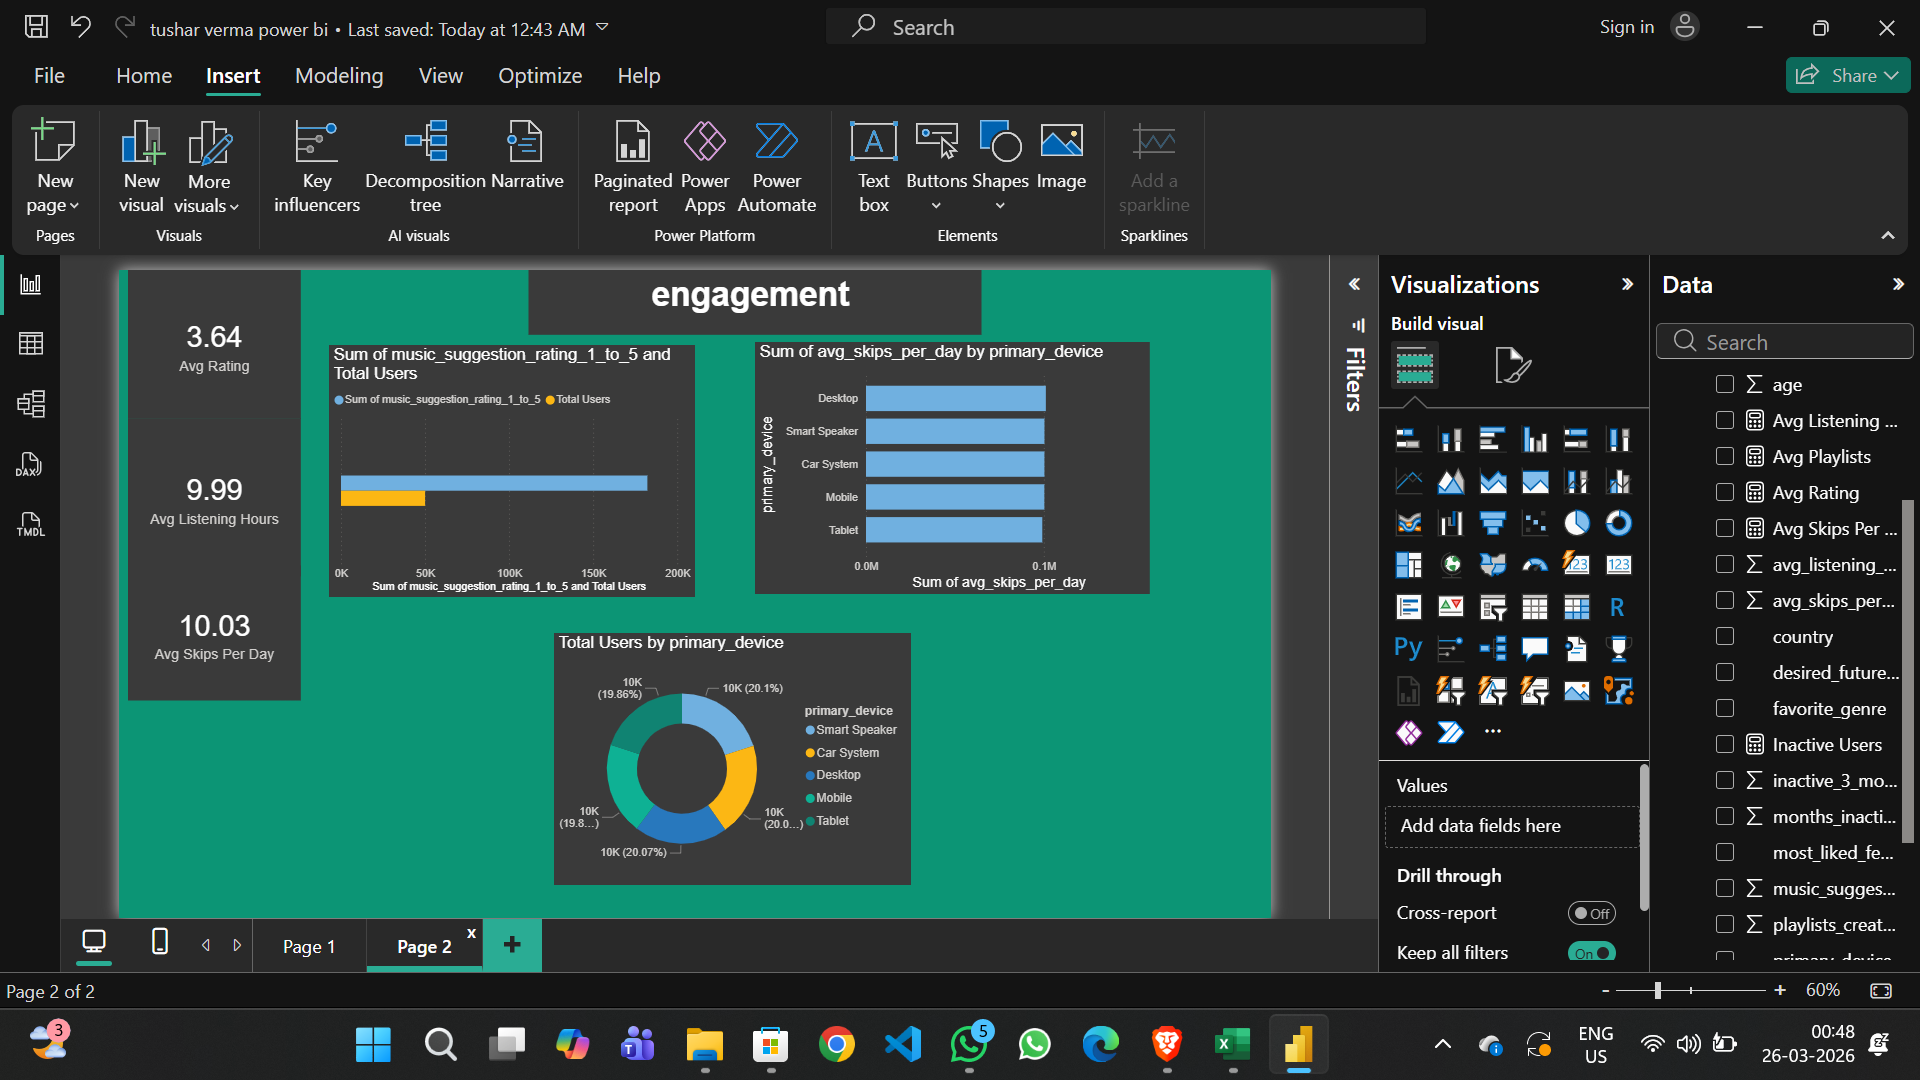

What the dashboard file says about the page in this screenshot:
{"tool":"powerbi","page":{"name":"Page 2","canvas":[1280,720],"ordinal":1},"visuals":[{"type":"card","fields":{"Values":["spotify_user_behavior_realistic_50000_rows.Avg Rating"]},"box":[10,0,191.7,165],"z":0},{"type":"card","fields":{"Values":["spotify_user_behavior_realistic_50000_rows.Avg Listening Hours"]},"box":[10,165,191.7,175],"z":1000},{"type":"card","fields":{"Values":["spotify_user_behavior_realistic_50000_rows.Avg Skips Per Day"]},"box":[10,328.3,191.7,150],"z":2000},{"type":"clusteredBarChart","fields":{"Y":["Sum(spotify_user_behavior_realistic_50000_rows.music_suggestion_rating_1_to_5)","spotify_user_behavior_realistic_50000_rows.Total Users"]},"box":[233.3,83.3,406.7,280],"z":2001},{"type":"donutChart","fields":{"Category":["spotify_user_behavior_realistic_50000_rows.primary_device"],"Y":["spotify_user_behavior_realistic_50000_rows.Total Users"]},"box":[483.3,403.3,396.7,280],"z":2002},{"type":"clusteredBarChart","fields":{"Category":["spotify_user_behavior_realistic_50000_rows.primary_device"],"Y":["Sum(spotify_user_behavior_realistic_50000_rows.avg_skips_per_day)"]},"box":[706.7,80,438.3,280],"z":2003},{"type":"textbox","box":[455,0,503.3,71.7],"z":2004}]}

Visuals, with their boxes on the page's 1280x720 design canvas (x1, y1, x2, y2). These are canvas units, not pixel positions in the 1920x1080 screenshot, which may show the page scaled, cropped or inside an application window:
card - spotify_user_behavior_realistic_50000_rows.Avg Rating: l=10, t=0, r=202, b=165
card - spotify_user_behavior_realistic_50000_rows.Avg Listening Hours: l=10, t=165, r=202, b=340
card - spotify_user_behavior_realistic_50000_rows.Avg Skips Per Day: l=10, t=328, r=202, b=478
clusteredBarChart - Sum(spotify_user_behavior_realistic_50000_rows.music_suggestion_rating_1_to_5) x spotify_user_behavior_realistic_50000_rows.Total Users: l=233, t=83, r=640, b=363
donutChart - spotify_user_behavior_realistic_50000_rows.primary_device x spotify_user_behavior_realistic_50000_rows.Total Users: l=483, t=403, r=880, b=683
clusteredBarChart - spotify_user_behavior_realistic_50000_rows.primary_device x Sum(spotify_user_behavior_realistic_50000_rows.avg_skips_per_day): l=707, t=80, r=1145, b=360
textbox: l=455, t=0, r=958, b=72
